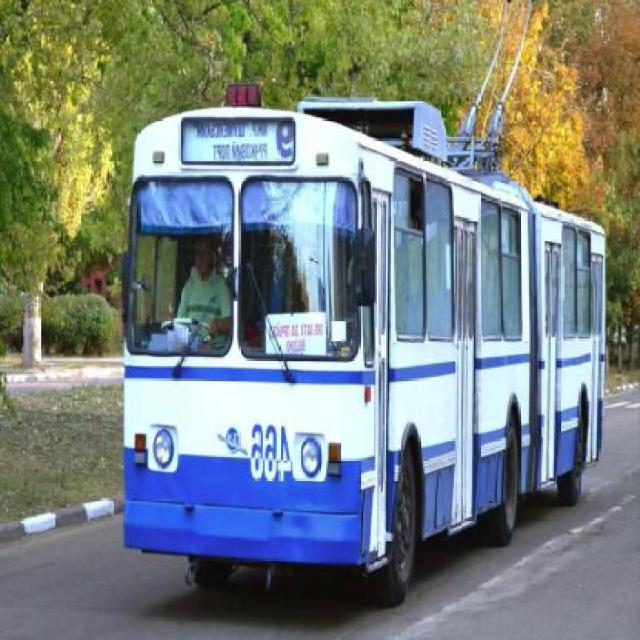bus: (122, 82, 609, 603)
